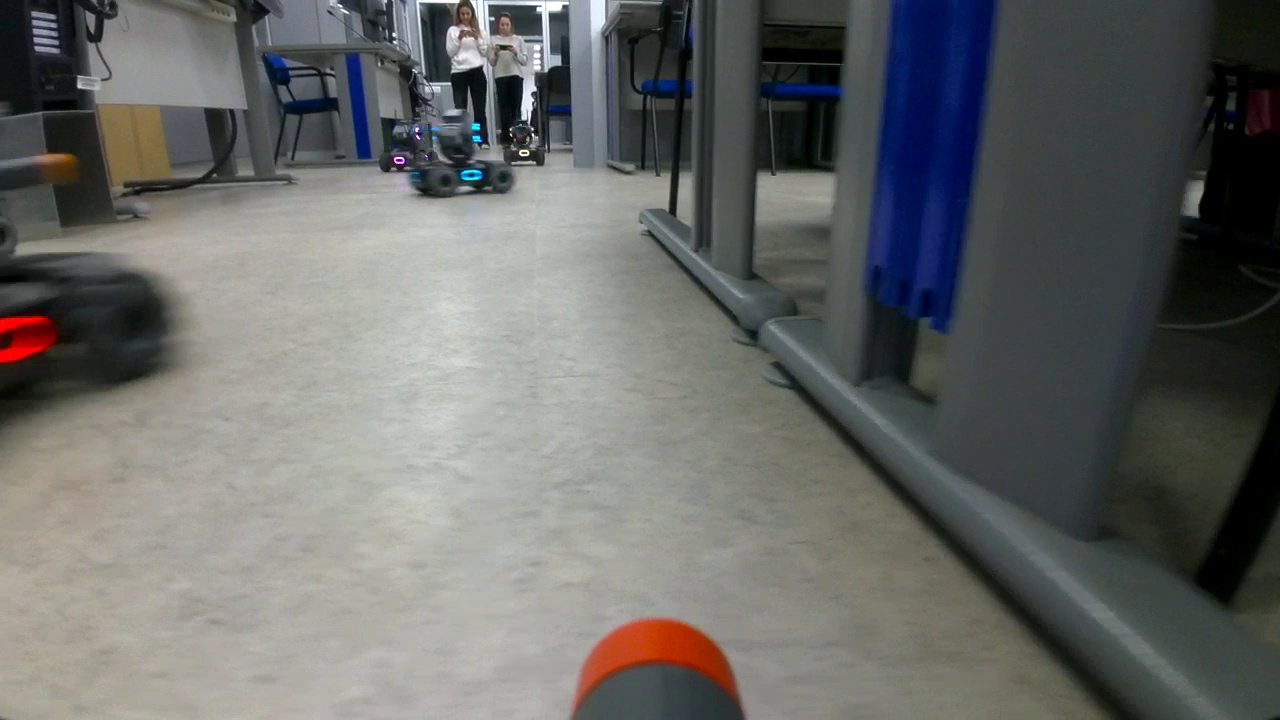robot: (409, 109, 514, 200), (376, 119, 430, 175), (502, 118, 546, 167)
